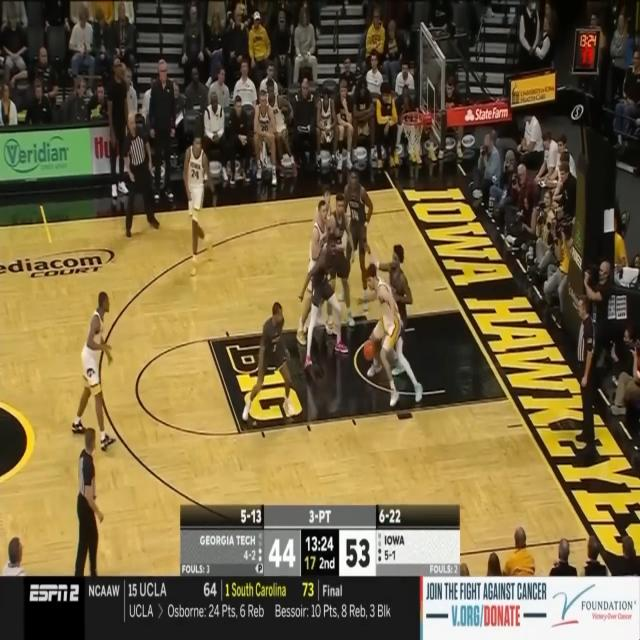Ball: (363, 338, 377, 363)
Hoop: (400, 108, 427, 162)
Period: (318, 554, 337, 572)
Player: (356, 264, 422, 408), (67, 288, 116, 448), (297, 231, 347, 368), (236, 300, 293, 420), (364, 240, 413, 374), (296, 197, 338, 342), (337, 165, 374, 314), (182, 128, 218, 277), (326, 196, 357, 334), (314, 186, 332, 213)
Ref: (122, 110, 161, 238), (72, 426, 104, 576), (576, 295, 600, 457)
Shot Clock: (304, 552, 317, 572)
Team Name: (199, 532, 258, 551), (384, 533, 405, 547)
Team Points: (269, 534, 297, 570), (344, 535, 372, 570)
Time Remaining: (305, 534, 335, 554)
